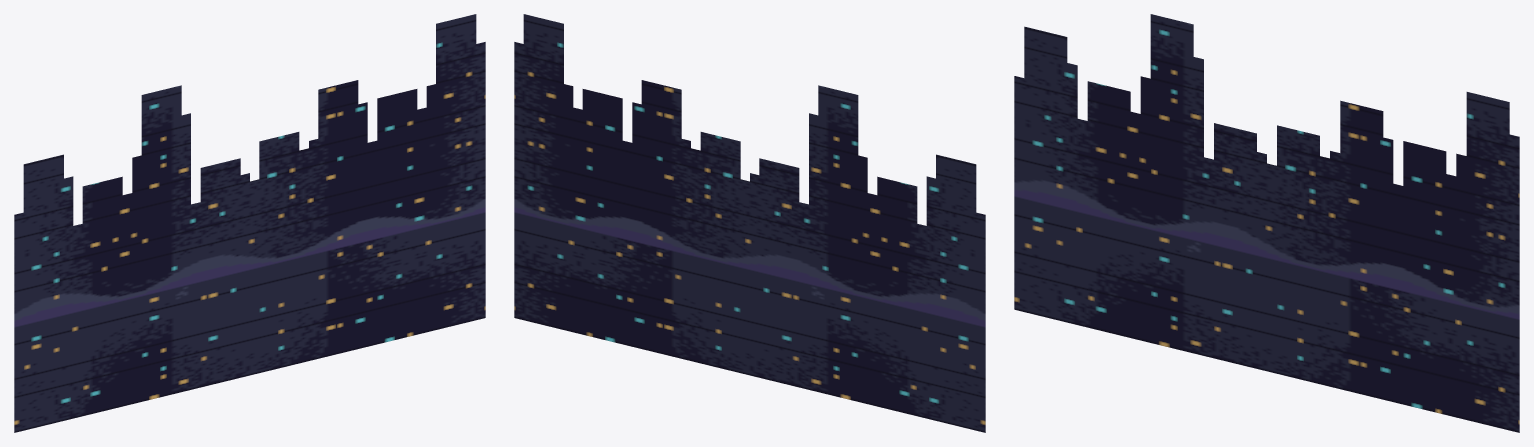
The model's file is cysky.stepped.glb.
3 renders of one model, left to right at view 1: azimuth 30°, elevation 25°; view 2: azimuth 150°, elevation 25°; view 3: azimuth 330°, elevation 25°, orthographic. The views are drawn at different scales.
Parts seen in each view (by area): view 1: kit_card_skyline; view 2: kit_card_skyline; view 3: kit_card_skyline.
Part boxes in pixels (x1,y1,x2,y2): kit_card_skyline: (14,14,485,432); kit_card_skyline: (514,14,985,432); kit_card_skyline: (1014,14,1519,432).
Size of the model in its own units: 56 by 34.84 by 0.
Materials: 1 (1 with a texture image).
